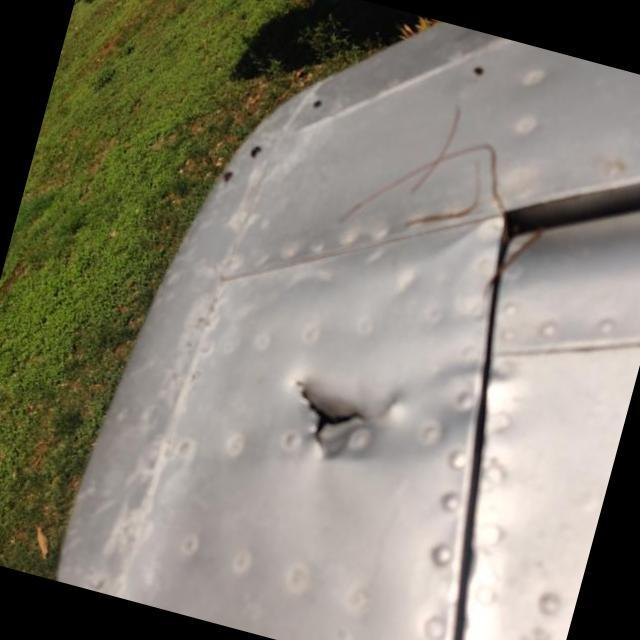Rupture: (272, 360, 391, 484)
